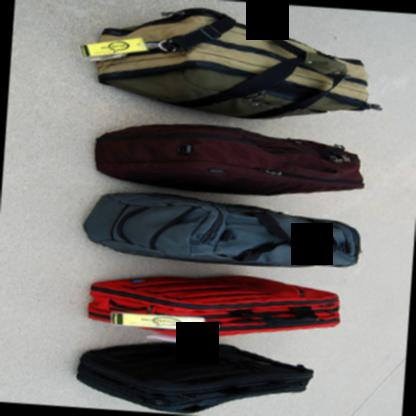backpack: (82, 193, 357, 268)
handbag: (71, 342, 313, 416), (87, 274, 340, 337)
suitcase: (78, 8, 382, 119), (95, 123, 363, 196), (83, 277, 340, 343), (72, 342, 310, 413)
